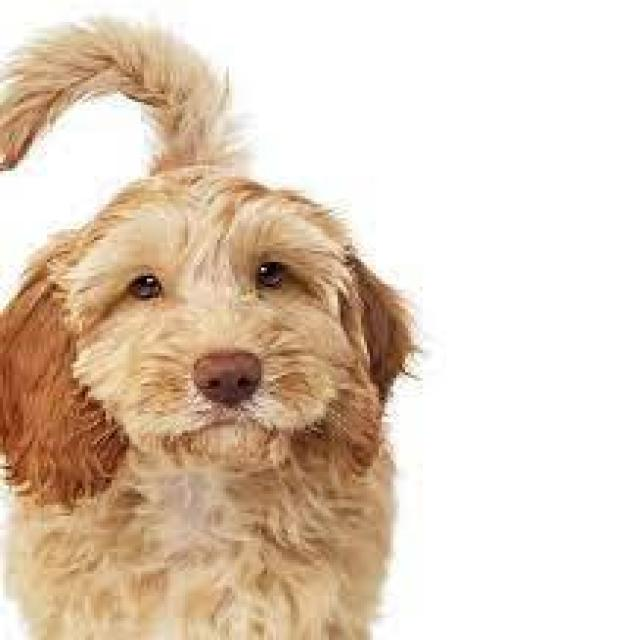Dog: (1, 175, 452, 513)
